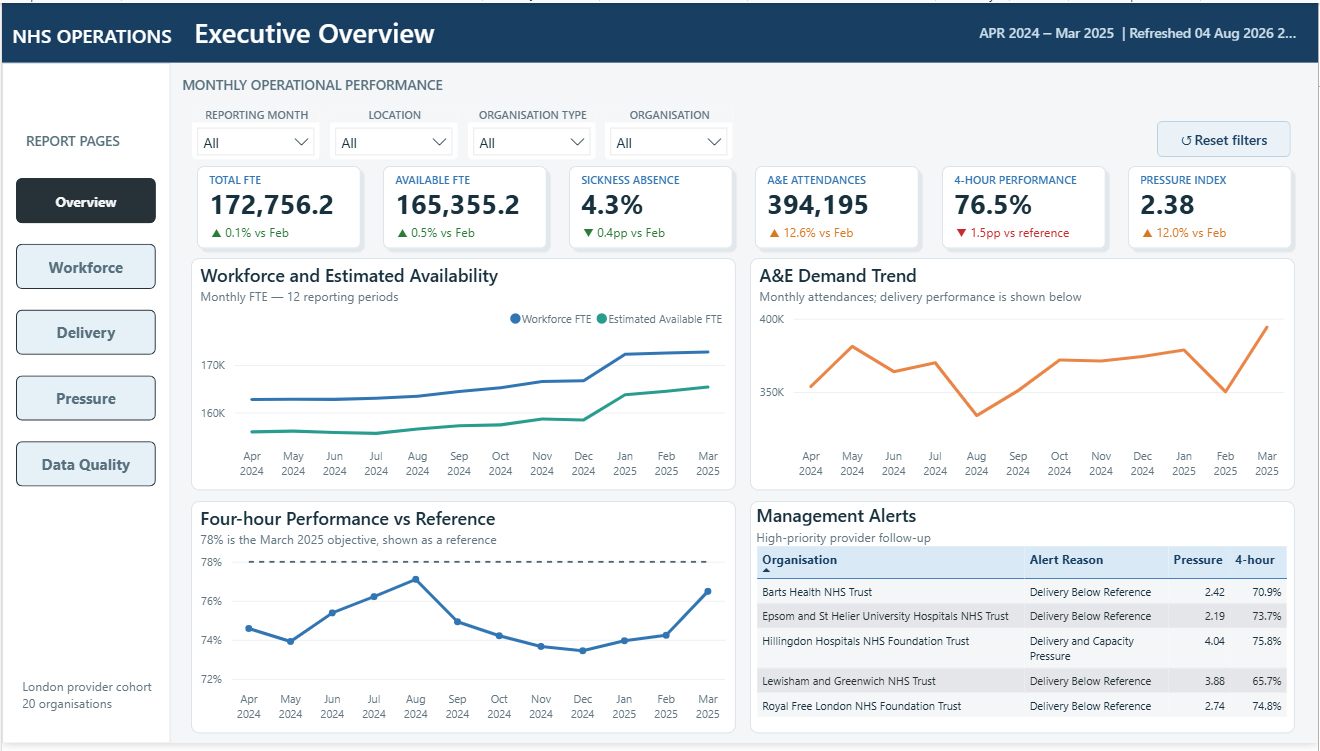

This screenshot's page, from the dashboard's own definition file:
{"tool":"powerbi","page":{"name":"Overview","canvas":[1280,720],"ordinal":0},"visuals":[{"type":"shape","box":[0,58,164,662],"z":0},{"type":"shape","box":[1089,153,171,92],"z":0,"group":"g6"},{"type":"shape","box":[0,0,1280,58],"z":1000},{"type":"shape","box":[365,153,171,92],"z":1000,"group":"g5"},{"type":"shape","box":[908,153,171,92],"z":1000,"group":"g3"},{"type":"shape","box":[184,153,171,92],"z":2000,"group":"g4"},{"type":"shape","box":[727,153,171,92],"z":2000,"group":"g2"},{"type":"pageNavigator","box":[14,170,136,300],"z":2000},{"type":"textbox","box":[5,5,550,47],"z":3000},{"type":"shape","box":[546,153,171,92],"z":3000,"group":"g1"},{"type":"cardVisual","fields":{"Data":["_Measures.Latest Refresh Label"]},"box":[1090,10,180,35],"z":4000},{"type":"textbox","box":[945,11,148,35],"z":5000},{"type":"textbox","box":[170,65,300,30],"z":6000},{"type":"textbox","box":[15,120,130,30],"z":7000},{"type":"slicer","title":"LOCATION","fields":{"Values":["DataQualityRuleResults.ReportingMonth"]},"box":[318,100,126,53],"z":8000},{"type":"slicer","title":"ORGANISATION TYPE","fields":{"Values":["DataQualityRuleResults.RecordStatus"]},"box":[452,100,126,53],"z":9000},{"type":"slicer","title":"REPORTING MONTH","fields":{"Values":["DimDate.MonthLabel"]},"box":[184,100,126,53],"z":10000},{"type":"slicer","title":"ORGANISATION","fields":{"Values":["dimOrganisation.CanonicalOrganisationName"]},"box":[586,100,126,53],"z":11000},{"type":"actionButton","box":[1123,115,130,35],"z":12000},{"type":"lineChart","title":"Workforce and Estimated Availability","fields":{"Category":["DimDate.MonthLabel"],"Y":["_Measures.Total FTE","_Measures.Estimated Available FTE"]},"box":[184,248,530,226],"z":13000},{"type":"lineChart","title":"A&E Demand Trend","fields":{"Category":["DimDate.MonthLabel"],"Y":["_Measures.Total Attendances"]},"box":[728,248,530,226],"z":14000},{"type":"lineChart","title":"Four-hour Performance vs Reference","fields":{"Category":["DimDate.MonthLabel"],"Y":["_Measures.Four-Hour Performance","_Measures.Four-Hour Reference Target"]},"box":[184,484,530,226],"z":15000},{"type":"textbox","box":[197,163,110,17],"z":16000,"group":"g4"},{"type":"tableEx","title":"Management Alerts","fields":{"Values":["dimOrganisation.CanonicalOrganisationName","_Measures.Alert Reason","_Measures.Attendances per Available FTE Latest","_Measures.Four-Hour Performance Latest"]},"box":[728,484,530,226],"z":16000},{"type":"cardVisual","fields":{"Data":["_Measures.Total FTE Card Value"]},"box":[197,177,145,31],"z":17000,"group":"g4"},{"type":"textbox","box":[15,650,140,50],"z":17000},{"type":"group","id":"g1","title":"Group 1","box":[546,153,171,92],"z":18000},{"type":"cardVisual","fields":{"Data":["_Measures.Total FTE Card Delta"]},"box":[197,212,138,20],"z":18000,"group":"g4"},{"type":"group","id":"g2","title":"Group 2","box":[727,153,171,92],"z":19000},{"type":"textbox","box":[378,163,110,17],"z":19000,"group":"g5"},{"type":"group","id":"g3","title":"Group 3","box":[908,153,171,92],"z":20000},{"type":"textbox","box":[1102,163,110,17],"z":20000,"group":"g6"},{"type":"group","id":"g4","title":"Group 4","box":[184,153,171,92],"z":21000},{"type":"cardVisual","fields":{"Data":["_Measures.Available FTE Card Value"]},"box":[378,177,145,31],"z":21000,"group":"g5"},{"type":"group","id":"g5","title":"Group 5","box":[365,153,171,92],"z":22000},{"type":"textbox","box":[740,163,110,17],"z":22000,"group":"g2"},{"type":"cardVisual","fields":{"Data":["_Measures.Pressure Index Card Value"]},"box":[1102,177,145,31],"z":22000,"group":"g6"},{"type":"group","id":"g6","title":"Group 6","box":[1089,153,171,92],"z":23000},{"type":"textbox","box":[559,163,110,17],"z":23000,"group":"g1"},{"type":"textbox","box":[921,163,140,17],"z":23000,"group":"g3"},{"type":"cardVisual","fields":{"Data":["_Measures.Available FTE Card Delta"]},"box":[378,212,138,20],"z":23000,"group":"g5"},{"type":"cardVisual","fields":{"Data":["_Measures.Pressure Index Card Delta"]},"box":[1102,212,138,20],"z":24000,"group":"g6"},{"type":"cardVisual","fields":{"Data":["_Measures.AE Attendances Card Value"]},"box":[740,177,145,31],"z":26000,"group":"g2"},{"type":"cardVisual","fields":{"Data":["_Measures.Four Hour Performance Card Value"]},"box":[921,177,145,31],"z":27000,"group":"g3"},{"type":"cardVisual","fields":{"Data":["_Measures.Sickness Absence Card Value"]},"box":[559,177,145,31],"z":28000,"group":"g1"},{"type":"cardVisual","fields":{"Data":["_Measures.AE Attendances Card Delta"]},"box":[740,212,138,20],"z":30000,"group":"g2"},{"type":"cardVisual","fields":{"Data":["_Measures.Four Hour Performance Card Delta"]},"box":[921,212,145,20],"z":31000,"group":"g3"},{"type":"cardVisual","fields":{"Data":["_Measures.Sickness Absence Card Delta"]},"box":[559,212,138,20],"z":33000,"group":"g1"}]}

Visuals, with their boxes in screenshot pixels (x1, y1, x2, y2), scaled from the page's 1280x720 canvas onto the 1320x751 screenshot:
shape: region(0, 60, 169, 750)
shape: region(1123, 160, 1299, 256)
shape: region(0, 0, 1319, 60)
shape: region(376, 160, 553, 256)
shape: region(936, 160, 1113, 256)
shape: region(190, 160, 366, 256)
shape: region(750, 160, 926, 256)
pageNavigator: region(14, 177, 155, 490)
textbox: region(5, 5, 572, 54)
shape: region(563, 160, 739, 256)
cardVisual - _Measures.Latest Refresh Label: region(1124, 10, 1310, 47)
textbox: region(975, 11, 1127, 48)
textbox: region(175, 68, 485, 99)
textbox: region(15, 125, 150, 156)
"LOCATION" slicer: region(328, 104, 458, 160)
"ORGANISATION TYPE" slicer: region(466, 104, 596, 160)
"REPORTING MONTH" slicer: region(190, 104, 320, 160)
"ORGANISATION" slicer: region(604, 104, 734, 160)
actionButton: region(1158, 120, 1292, 156)
"Workforce and Estimated Availability" lineChart: region(190, 259, 736, 494)
"A&E Demand Trend" lineChart: region(751, 259, 1297, 494)
"Four-hour Performance vs Reference" lineChart: region(190, 505, 736, 741)
textbox: region(203, 170, 317, 188)
"Management Alerts" tableEx: region(751, 505, 1297, 741)
cardVisual - _Measures.Total FTE Card Value: region(203, 185, 353, 217)
textbox: region(15, 678, 160, 730)
"Group 1" group: region(563, 160, 739, 256)
cardVisual - _Measures.Total FTE Card Delta: region(203, 221, 345, 242)
"Group 2" group: region(750, 160, 926, 256)
textbox: region(390, 170, 503, 188)
"Group 3" group: region(936, 160, 1113, 256)
textbox: region(1136, 170, 1250, 188)
"Group 4" group: region(190, 160, 366, 256)
cardVisual - _Measures.Available FTE Card Value: region(390, 185, 539, 217)
"Group 5" group: region(376, 160, 553, 256)
textbox: region(763, 170, 877, 188)
cardVisual - _Measures.Pressure Index Card Value: region(1136, 185, 1286, 217)
"Group 6" group: region(1123, 160, 1299, 256)
textbox: region(576, 170, 690, 188)
textbox: region(950, 170, 1094, 188)
cardVisual - _Measures.Available FTE Card Delta: region(390, 221, 532, 242)
cardVisual - _Measures.Pressure Index Card Delta: region(1136, 221, 1279, 242)
cardVisual - _Measures.AE Attendances Card Value: region(763, 185, 913, 217)
cardVisual - _Measures.Four Hour Performance Card Value: region(950, 185, 1099, 217)
cardVisual - _Measures.Sickness Absence Card Value: region(576, 185, 726, 217)
cardVisual - _Measures.AE Attendances Card Delta: region(763, 221, 905, 242)
cardVisual - _Measures.Four Hour Performance Card Delta: region(950, 221, 1099, 242)
cardVisual - _Measures.Sickness Absence Card Delta: region(576, 221, 719, 242)
